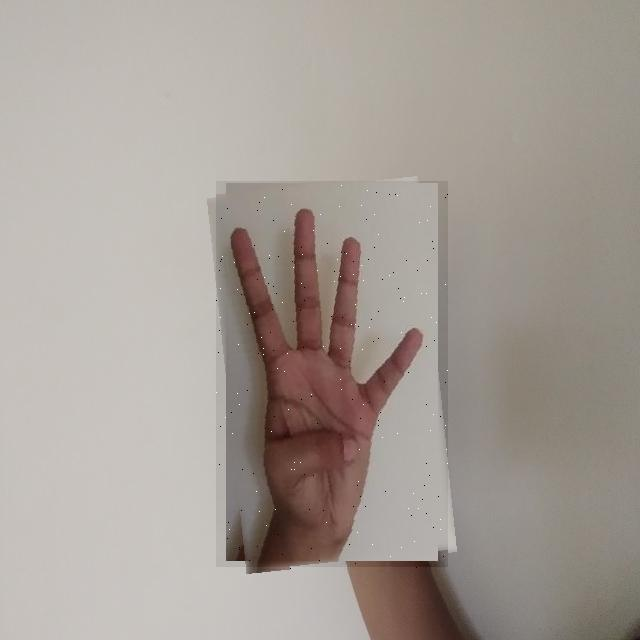Thanks: (216, 182, 448, 570)
